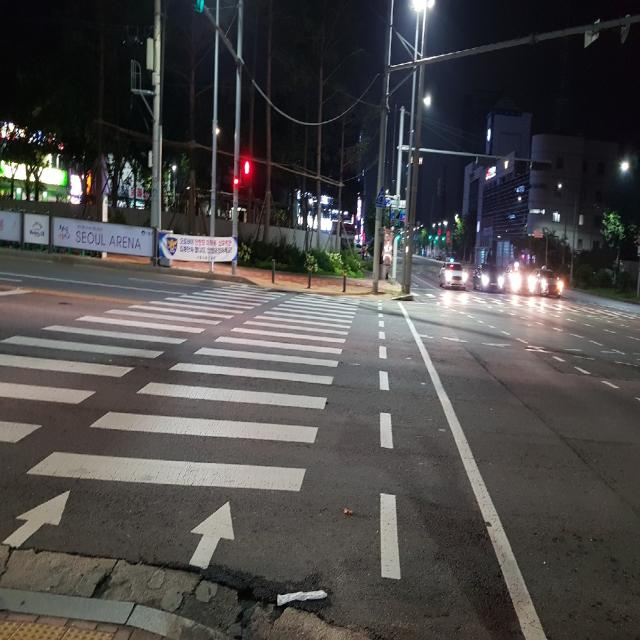빨간불: (241, 154, 253, 188)
횡단보도: (0, 284, 362, 570)
